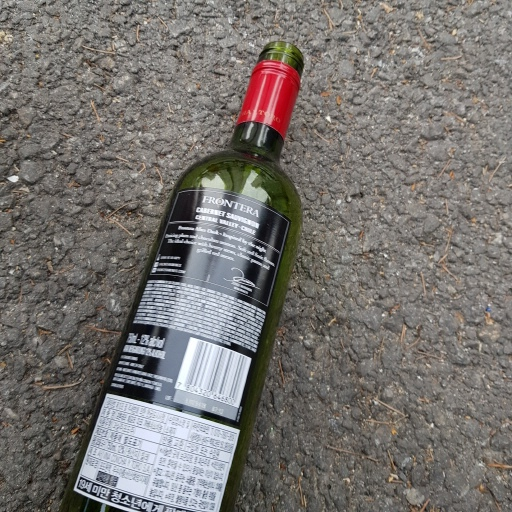Glass_2: (59, 41, 307, 512)
